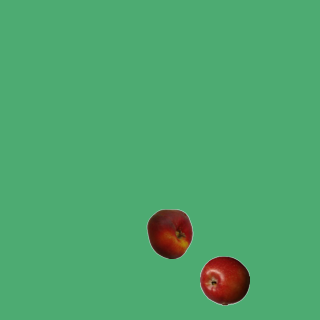Apple Braeburn: (199, 255, 249, 305)
Nectarine Flat: (144, 208, 194, 258)
